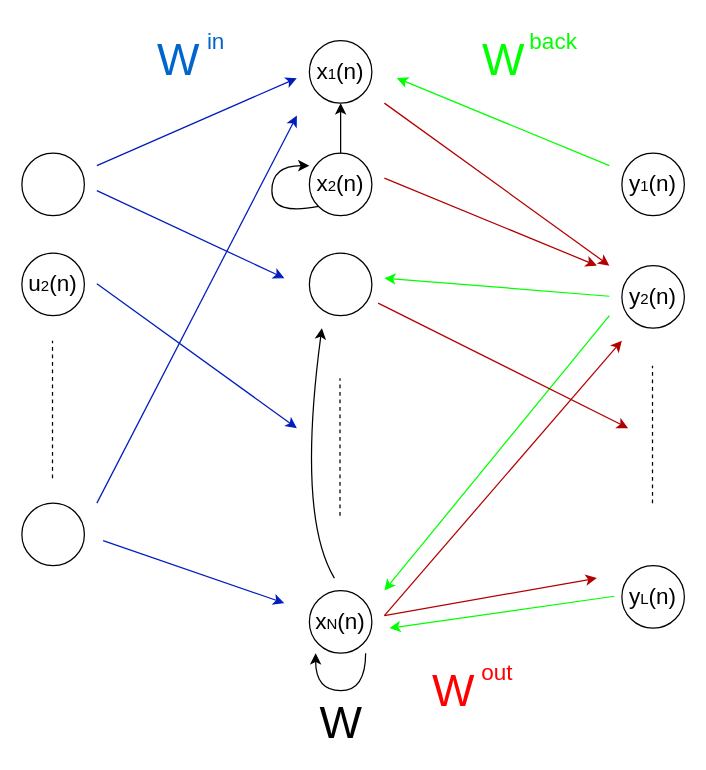
This 706x770 diagram has some shape labels left out. Here are the shapes that lost their labels. From the top down, the centre of each, then its label:
the point at 52,184: u 1 (n)
the point at 340,284: x 3 (n)
the point at 52,534: u K (n)
